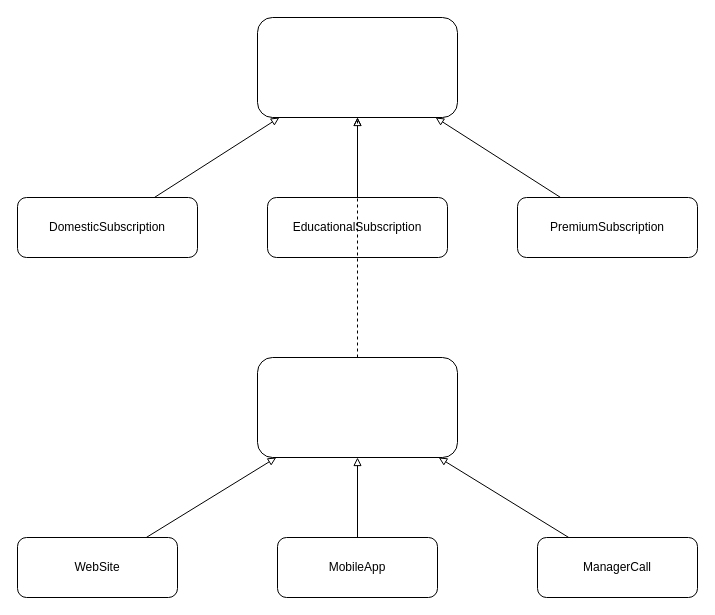
This 715x615 diagram has some shape labels left out. Each missing label, with the centre of its shape:
«abstract» Subscription + MonthlyPrice + MinPeriod + Features: point (357, 67)
«abstract» SubscriptionCreator + CreateSubscription() + BuySubscription(): point (357, 407)
